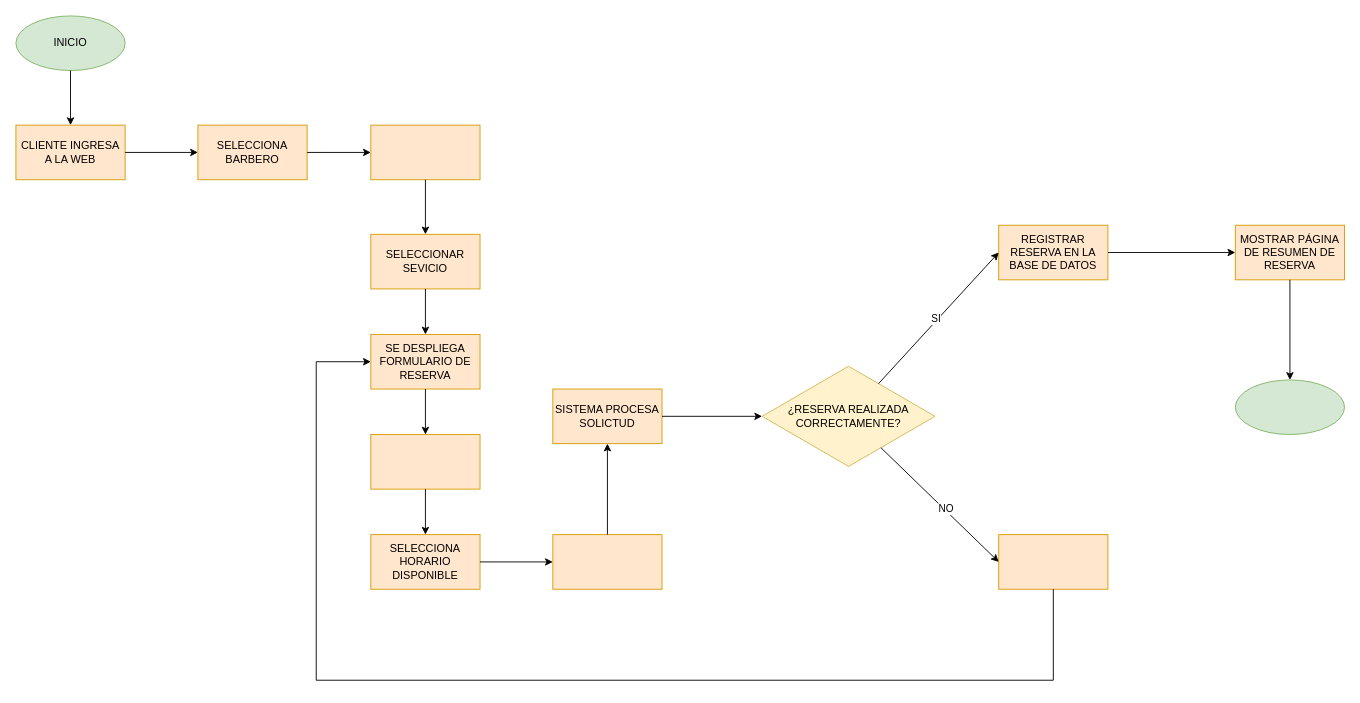
This 1360x703 diagram has some shape labels left out. Each missing label, with the centre of its shape:
"CLIENTE INGRESA SUS DATOS" belongs at (x=425, y=461).
"CONFIRMA RESERVA" belongs at (x=607, y=561).
"FIN" belongs at (x=1289, y=407).
"MUESTRA MENSAJE DE ERROR" belongs at (x=1053, y=561).
"VISUALIZAR SERVICIOS DISPONIBLES" belongs at (x=425, y=152).
